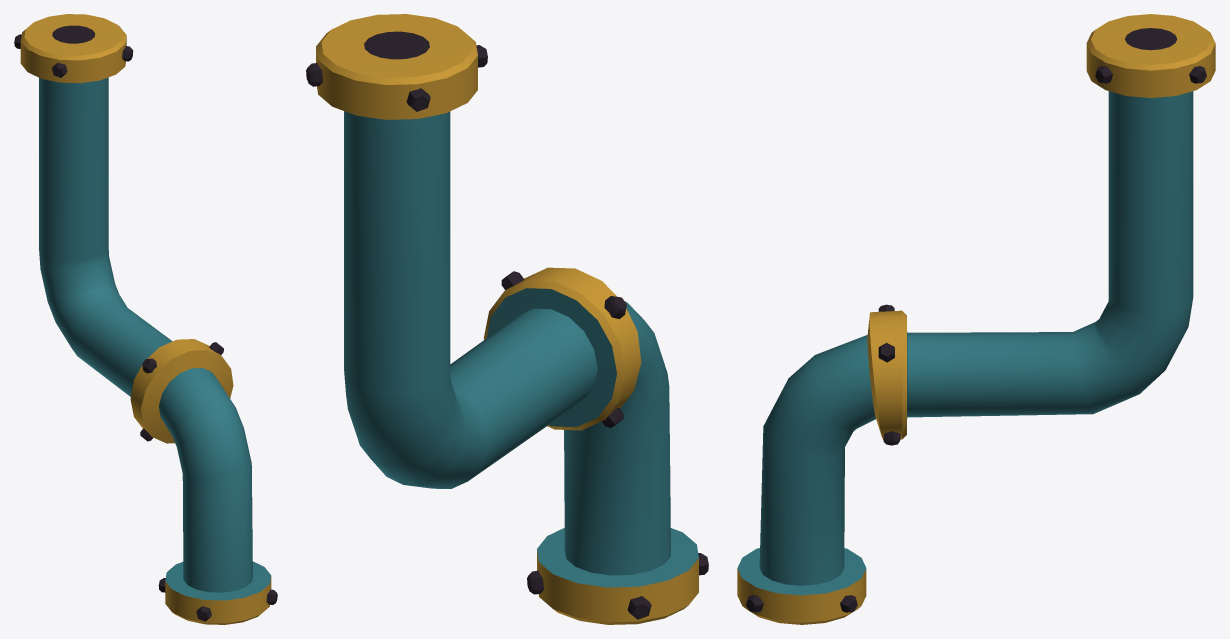
The model's file is PipeRun_16.glb.
3 views of the same model, side by side, from view 1: azimuth 30°, elevation 25°; view 2: azimuth 150°, elevation 25°; view 3: azimuth 270°, elevation 25° (orthographic). The views are drawn at different scales.
Visible parts, largest first — view 1: PipeRun_16; view 2: PipeRun_16; view 3: PipeRun_16.
Boxes of the visible parts, bbox=[...] form: PipeRun_16: bbox=[14, 14, 277, 624]; PipeRun_16: bbox=[306, 14, 708, 624]; PipeRun_16: bbox=[737, 14, 1215, 624].
Bounding box in the file's own units: 1.11 × 5.3 × 4.1.
